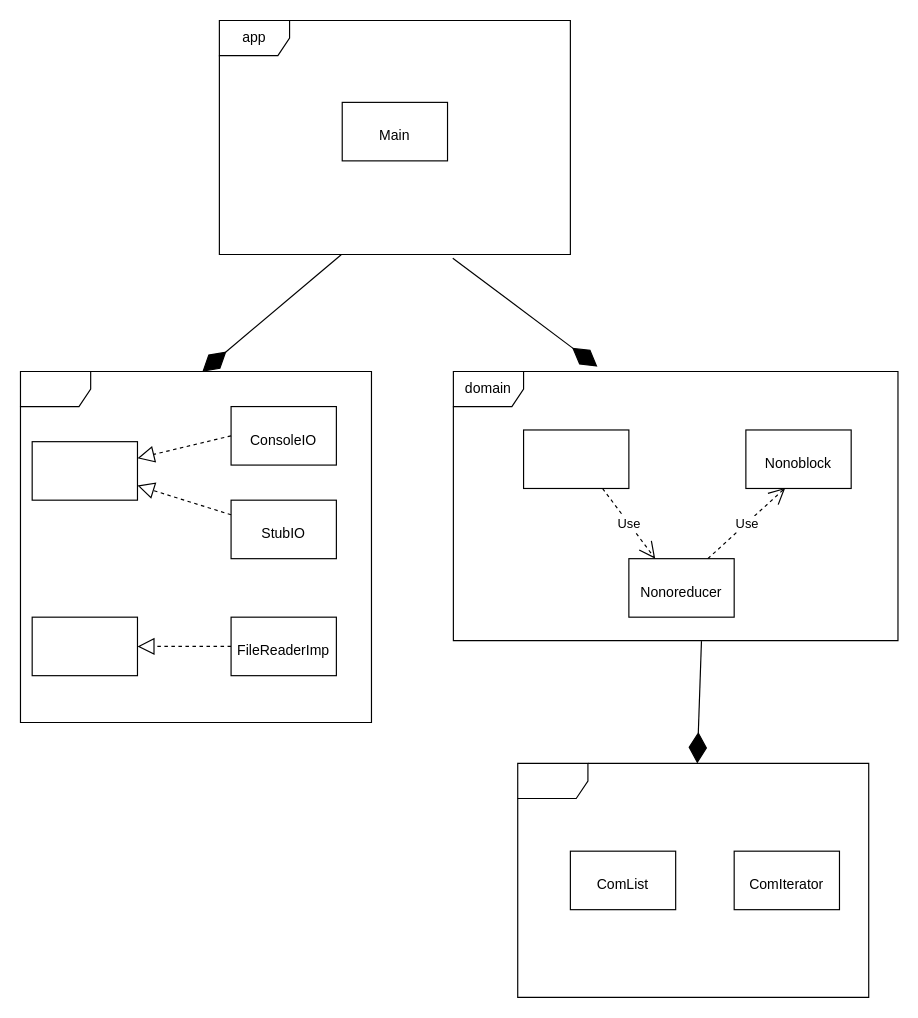
Image size: 918x1018. Some labels were removed from this diagram. The shapes that lost their labels are listed below. From the top down, each one's box as (x1, y1, x2, y2) in pixels, then its label:
(31, 441, 137, 500): <<Interface>> IO
(522, 429, 629, 488): Nonosolver
(19, 370, 371, 722): io
(31, 616, 137, 676): <<Interface>> FileReader
(517, 762, 869, 997): util
